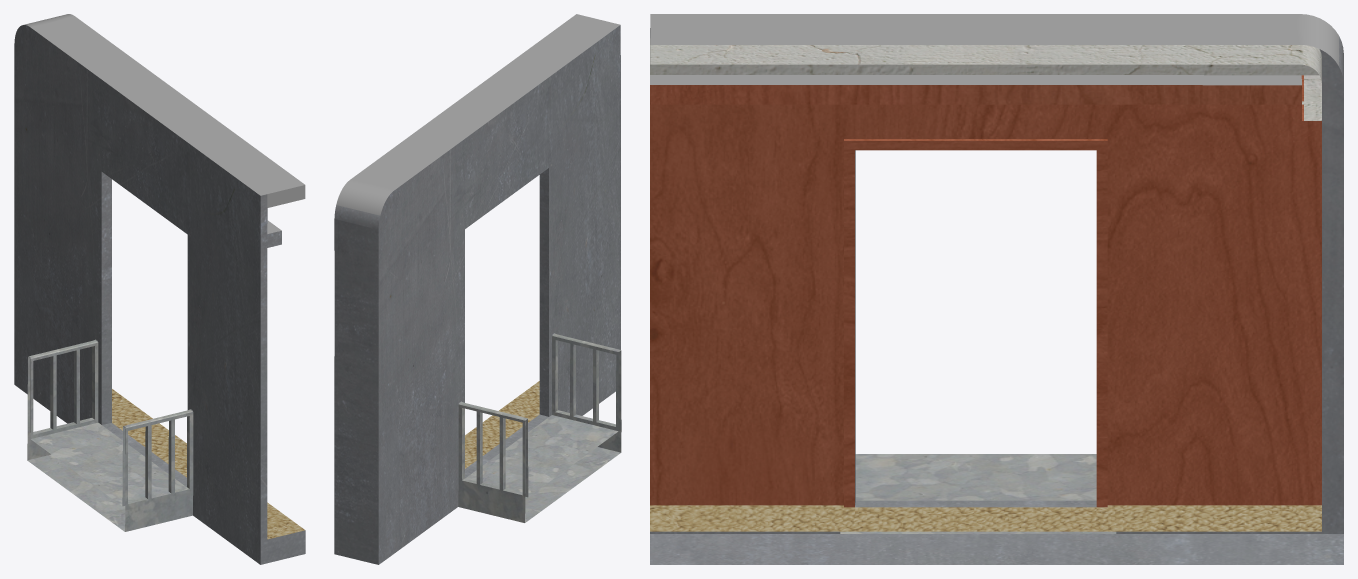
The model's file is interiorEnd.fbx.
3 renders of one model, left to right at view 1: azimuth 30°, elevation 25°; view 2: azimuth 150°, elevation 25°; view 3: azimuth 270°, elevation 25°, orthographic. The views are drawn at different scales.
Visible parts, largest first — view 1: interiorMid2:pPipe3; view 2: interiorMid2:pPipe3; view 3: interiorMid2:pPipe3.
Part boxes in pixels (bbox=[...]): interiorMid2:pPipe3: bbox=[14, 14, 305, 564]; interiorMid2:pPipe3: bbox=[334, 14, 621, 564]; interiorMid2:pPipe3: bbox=[650, 14, 1343, 564].
Bounding box in the file's own units: 2.04 × 6.37 × 7.71.
6 materials, 5 textured.
